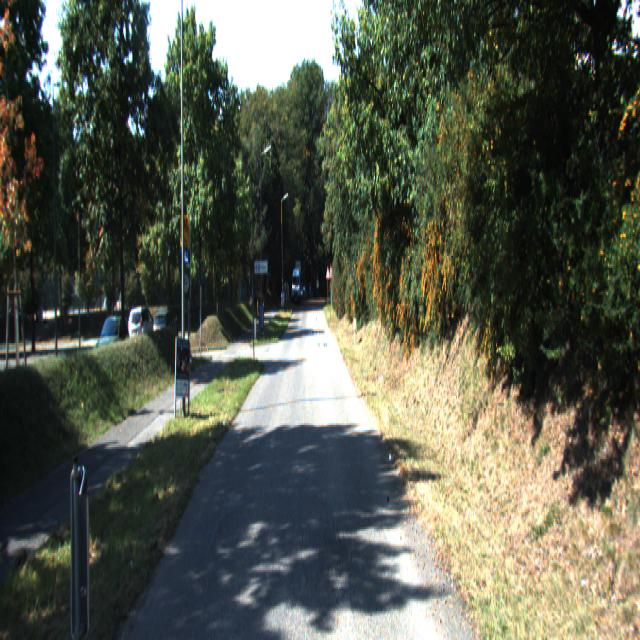Car: (94, 315, 132, 376), (127, 306, 156, 352)
